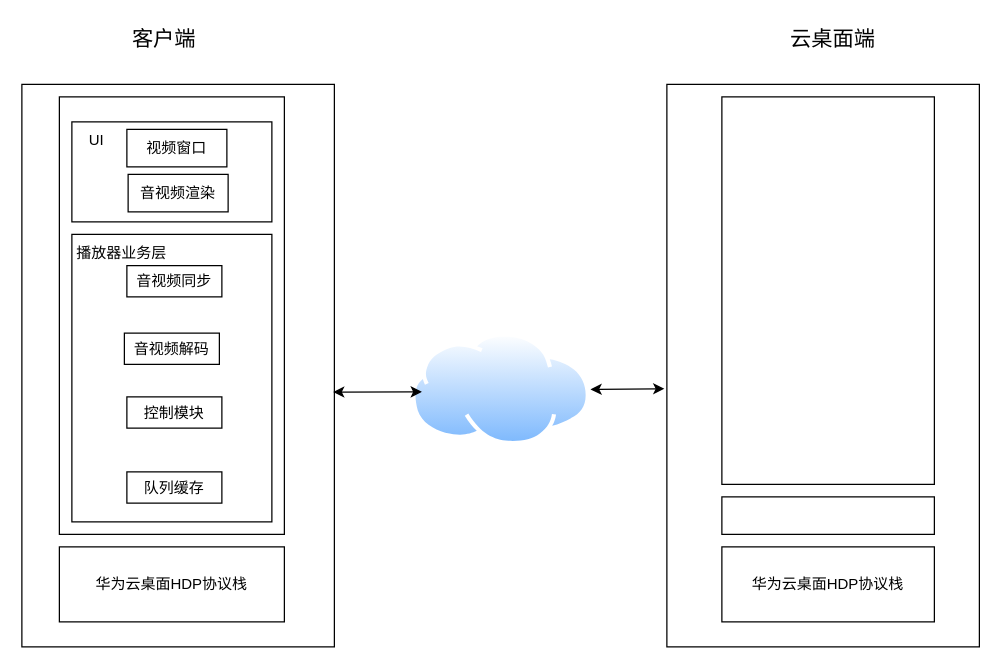
This 1001x669 diagram has some shape labels left out. Each missing label, with the centre of its shape:
HDP Agent: [827,515]
Internet: [500,388]
